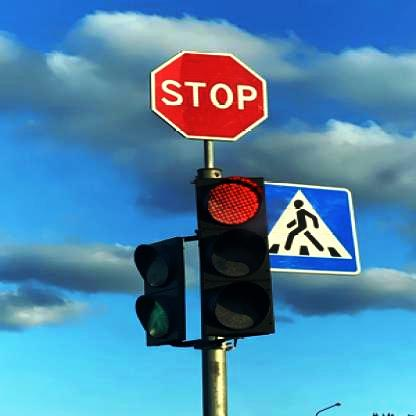Stop Sign: (145, 46, 269, 142)
